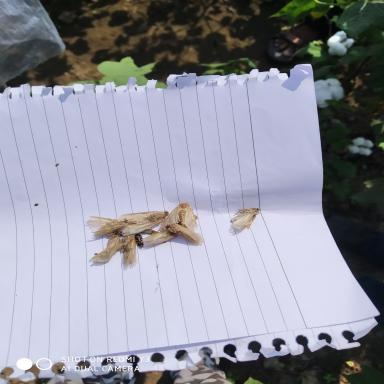abw: (118, 202, 171, 237), (158, 200, 199, 232), (88, 232, 126, 266), (84, 212, 130, 237), (227, 204, 262, 234), (164, 222, 207, 246), (117, 230, 141, 270), (138, 227, 185, 246)
